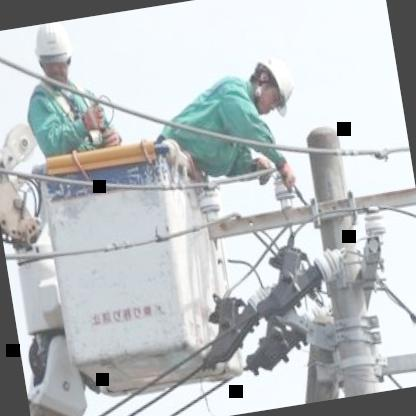helmet: (27, 19, 84, 92), (242, 48, 300, 119)
